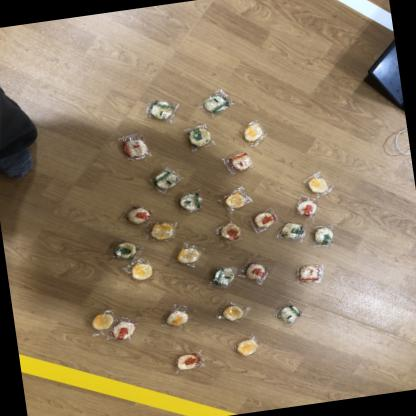green_setoshio: (270, 298, 307, 330), (198, 87, 235, 117), (148, 165, 183, 196), (208, 261, 244, 291), (172, 188, 208, 218), (106, 237, 146, 264), (182, 122, 216, 152), (276, 218, 310, 247), (146, 96, 180, 124), (307, 222, 339, 250)
red_setoshio: (117, 130, 152, 165), (291, 257, 328, 289), (121, 202, 154, 229), (240, 258, 270, 286), (109, 317, 140, 344), (172, 349, 205, 374), (252, 207, 281, 233), (226, 149, 256, 174), (215, 220, 246, 244), (292, 197, 320, 221)
yellow_setoshio: (172, 240, 207, 271), (122, 257, 159, 286), (160, 303, 196, 332), (235, 116, 268, 146), (218, 184, 252, 213), (231, 331, 265, 360), (218, 299, 252, 326), (302, 170, 336, 196), (150, 218, 181, 245), (86, 308, 116, 331)
